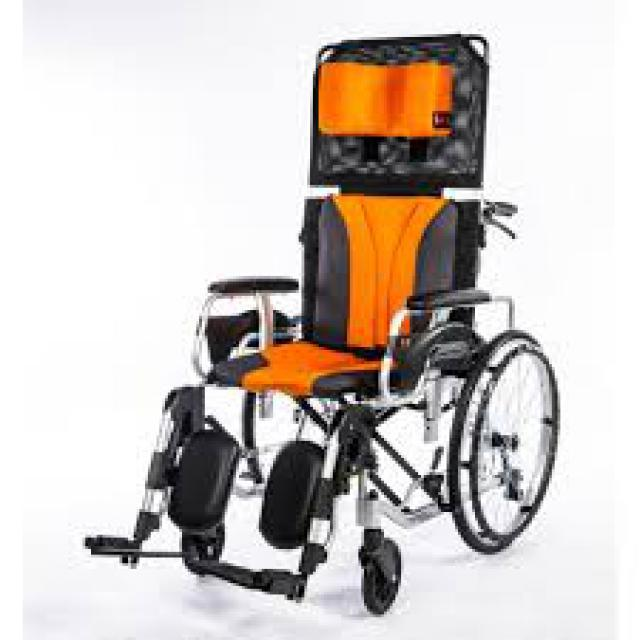wheelchair: (77, 25, 572, 638)
